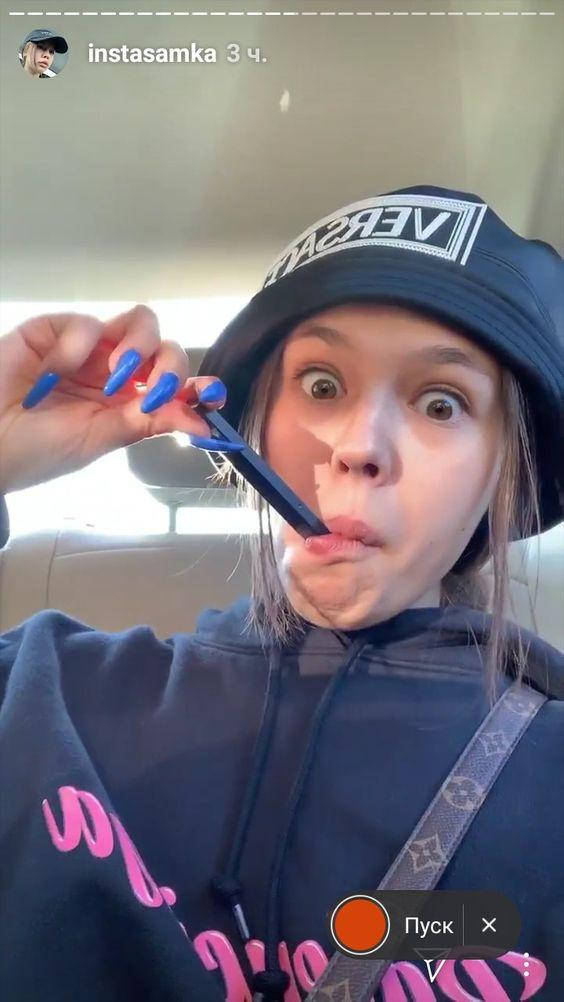Vape: (193, 403, 330, 540)
